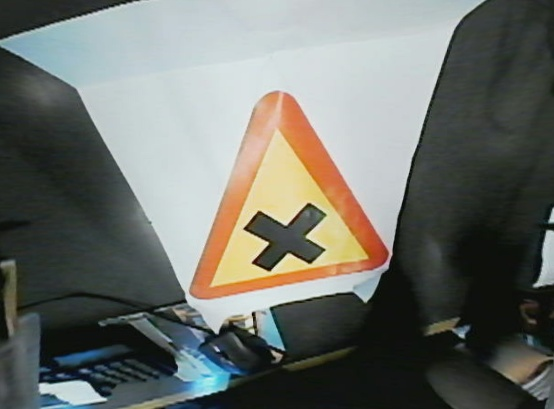junction: (171, 87, 401, 316)
